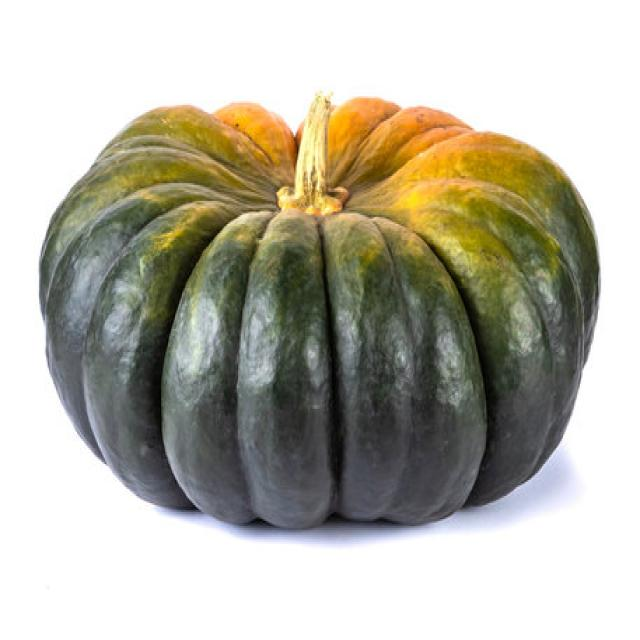Pumpkin: (38, 90, 601, 530)
